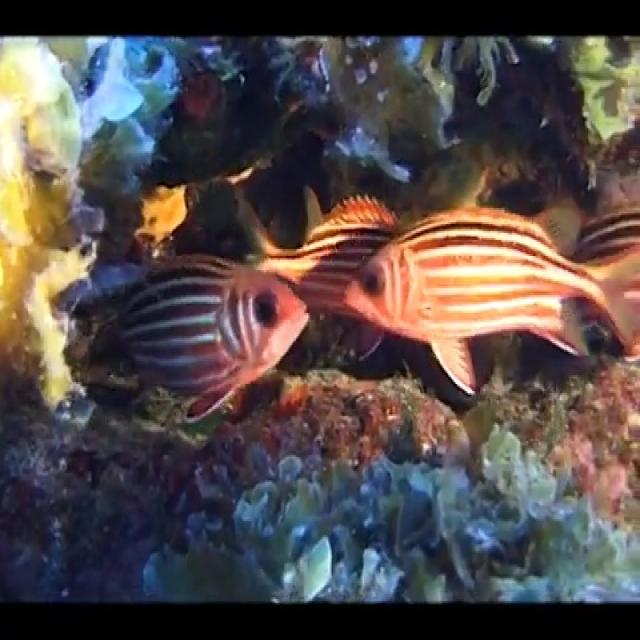Asker Baligi: (336, 197, 639, 385), (103, 243, 320, 421)
